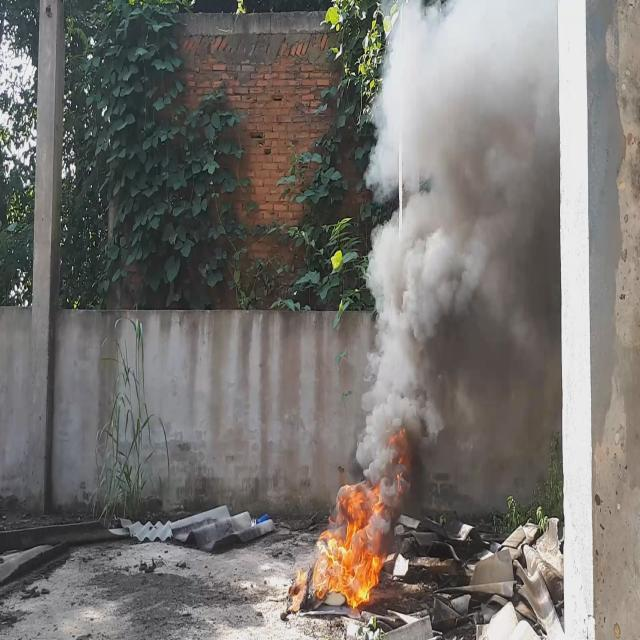Fire: (312, 482, 393, 610)
Smoke: (357, 0, 556, 511)
